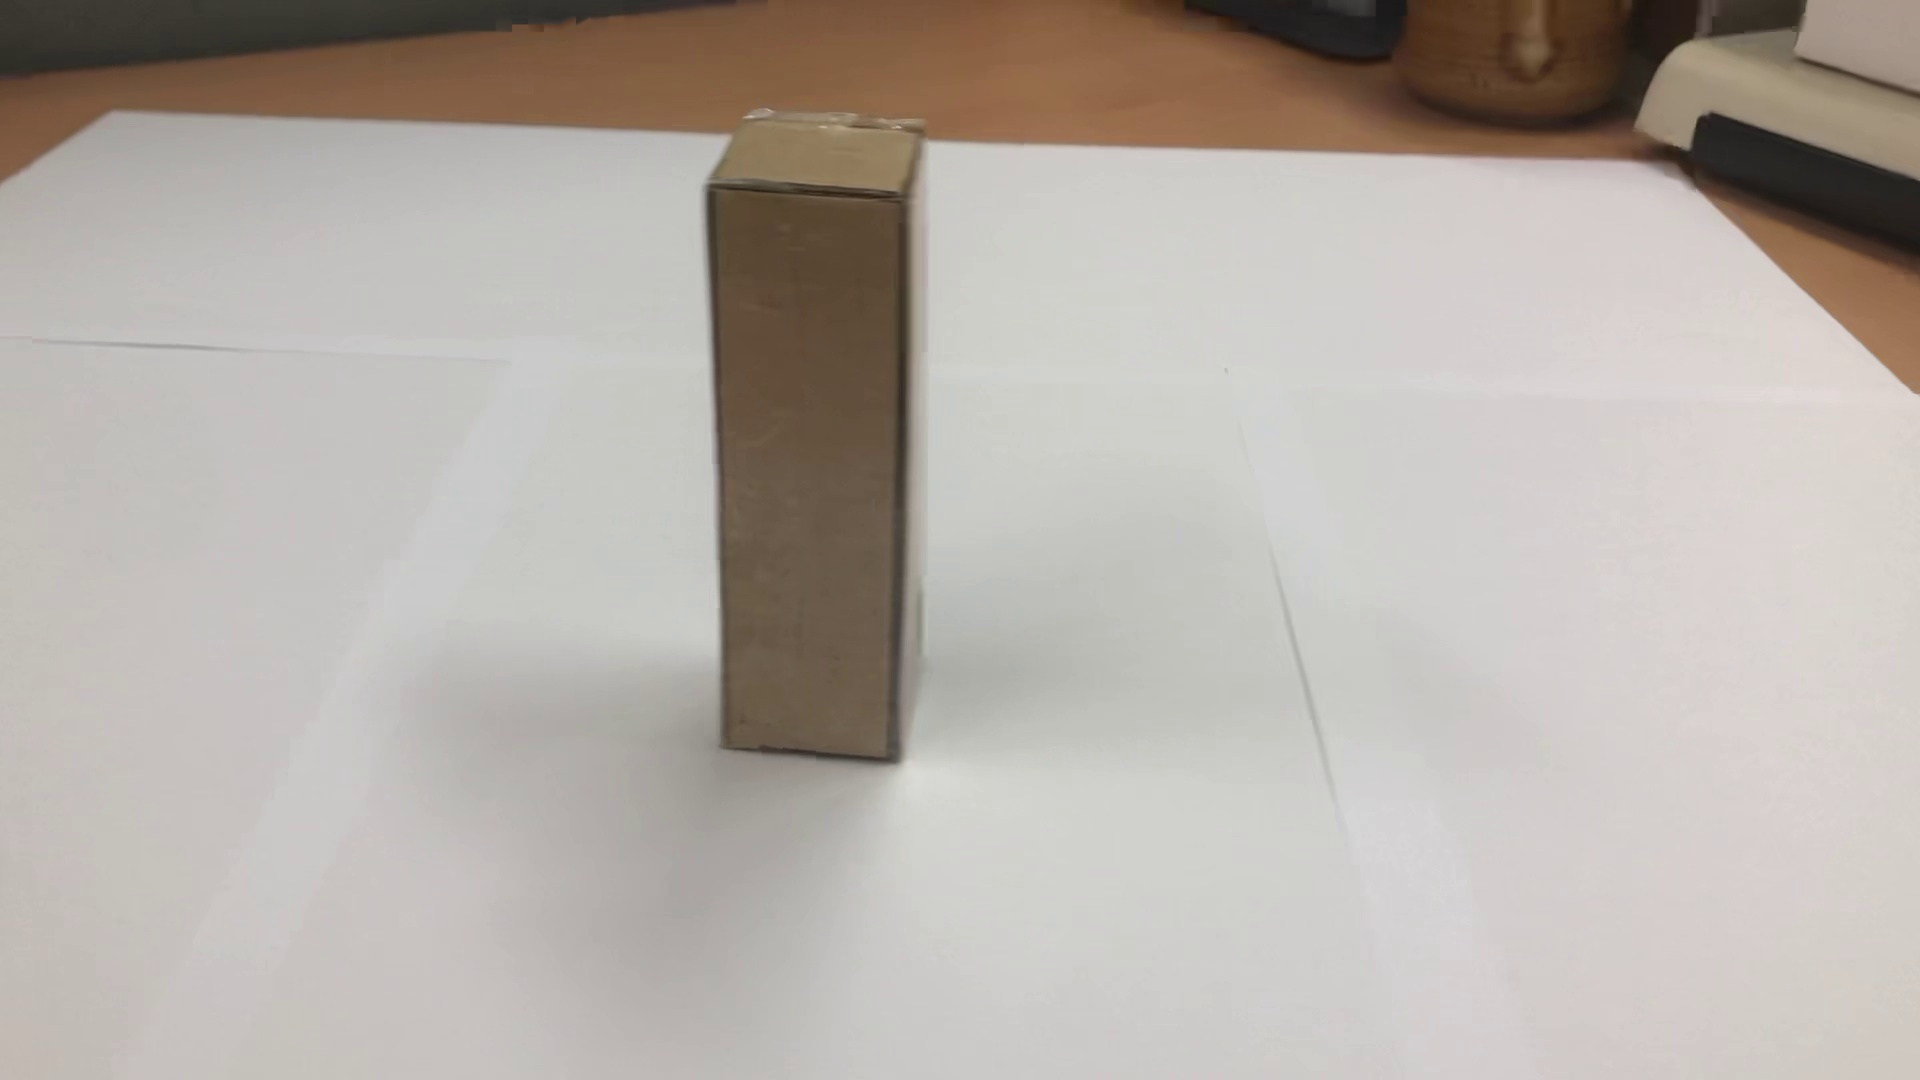box: (684, 88, 963, 785)
